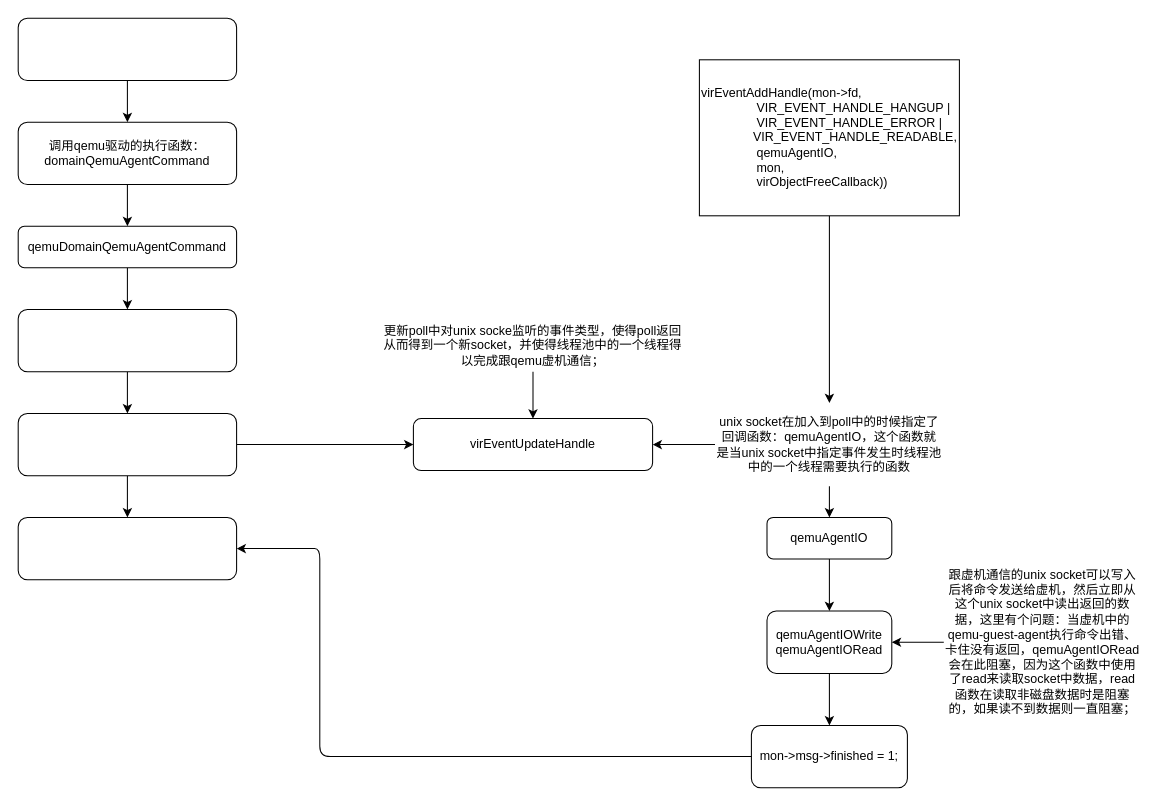
Image size: 1160x806. Some labels were removed from this diagram. Here are the shapes that lost their labels. From the top down, the box of each, then its label:
(17, 17, 237, 81): 开始 （qga命令执行的C API）： virDomainQemuAgentCommand
(17, 308, 237, 372): 执行命令函数： qemuAgentArbitraryCommand qemuAgentSend
(17, 412, 237, 476): qemuAgentUpdateWatch
(17, 516, 237, 580): while(!mon->msg->finished) 执行发送命令的线程中当发送命令的任务执行完成后会将finished置位，这里等待命令执行完成
